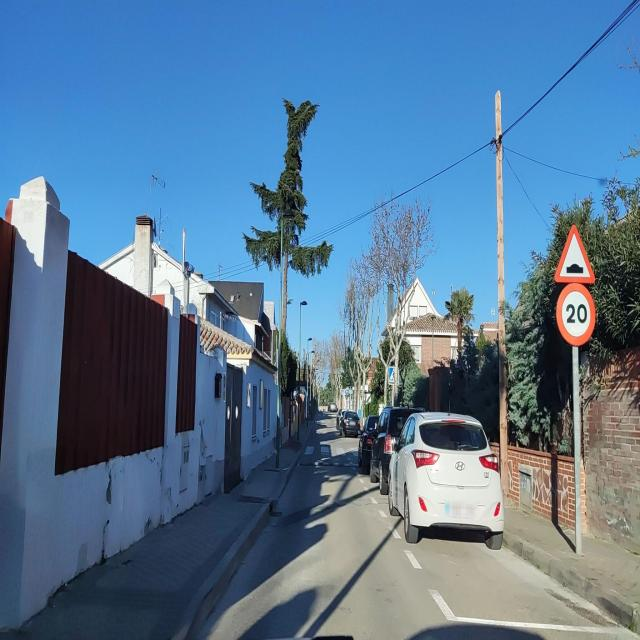car: (388, 409, 504, 548), (369, 404, 411, 494), (358, 412, 379, 472), (343, 410, 360, 438), (336, 409, 345, 430)
